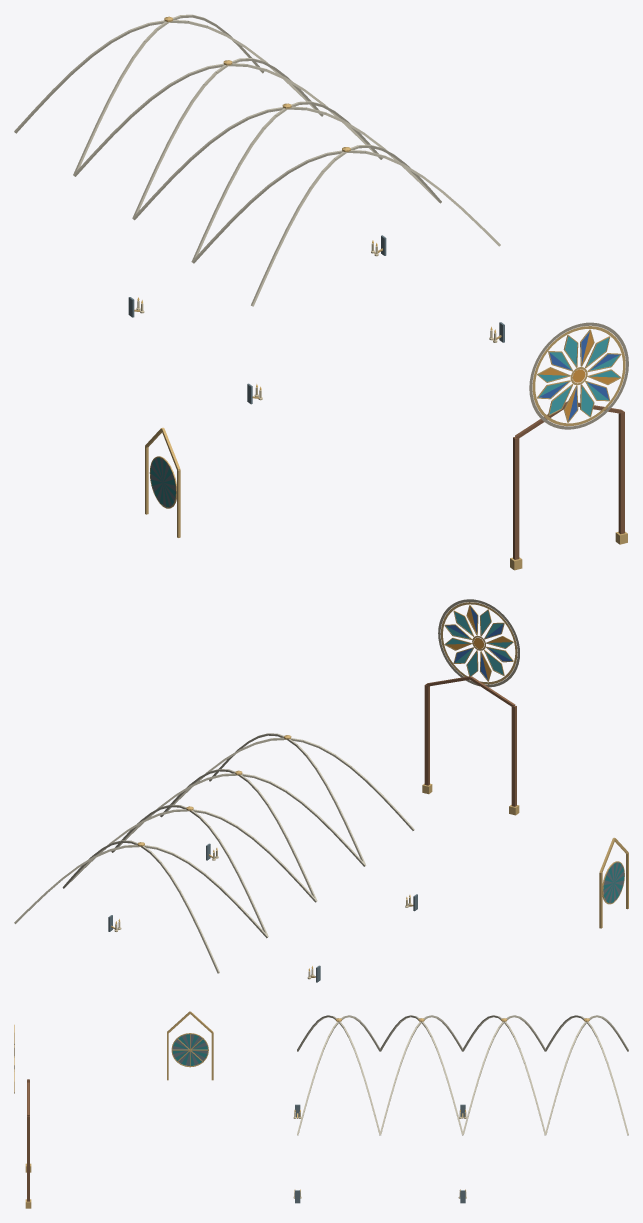
Rendered from CathedralAccents.fbx.
3 renders of one model, top to bottom at view 1: azimuth 30°, elevation 25°; view 2: azimuth 150°, elevation 25°; view 3: azimuth 270°, elevation 25°, orthographic. The views are drawn at different scales.
Parts seen in each view (by area): view 1: Nave vault ribs, Sanctuary rose and organ surround, Reading chapel crest, Nave sconces; view 2: Nave vault ribs, Sanctuary rose and organ surround, Reading chapel crest, Nave sconces; view 3: Nave vault ribs, Reading chapel crest, Sanctuary rose and organ surround, Nave sconces.
Boxes of the visible parts, box(x1,y1,x2,y2) form: Nave vault ribs: box(14, 14, 500, 306); Sanctuary rose and organ surround: box(510, 322, 628, 570); Reading chapel crest: box(145, 427, 180, 537); Nave sconces: box(128, 235, 504, 404); Nave vault ribs: box(14, 733, 414, 973); Sanctuary rose and organ surround: box(422, 599, 519, 815); Reading chapel crest: box(599, 837, 628, 928); Nave sconces: box(108, 843, 417, 982); Nave vault ribs: box(297, 1015, 628, 1135); Reading chapel crest: box(167, 1011, 213, 1080); Sanctuary rose and organ surround: box(14, 1024, 31, 1208); Nave sconces: box(293, 1104, 466, 1203).
Bounding box in the file's own units: 2854 × 1597 × 5210.
